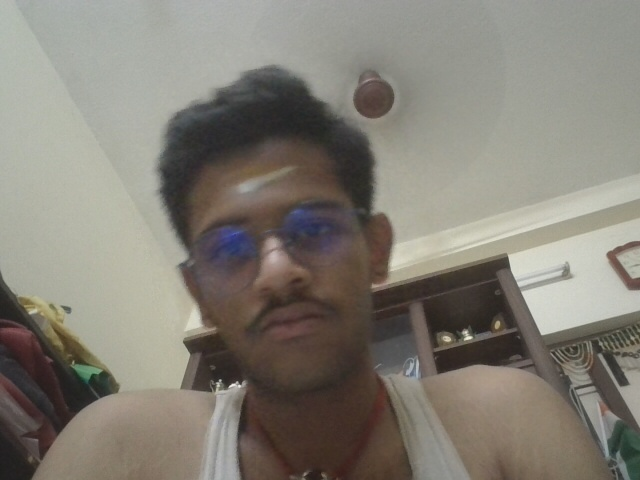real: (160, 147, 390, 377)
